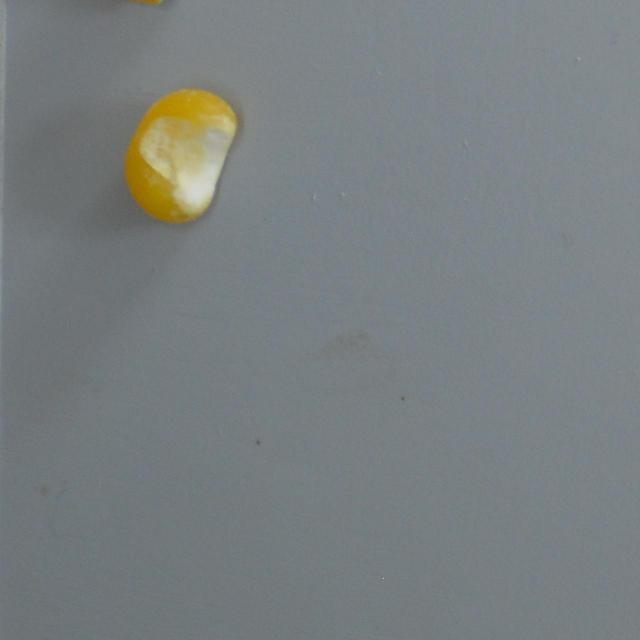no_desgerminado: (118, 86, 240, 227)
